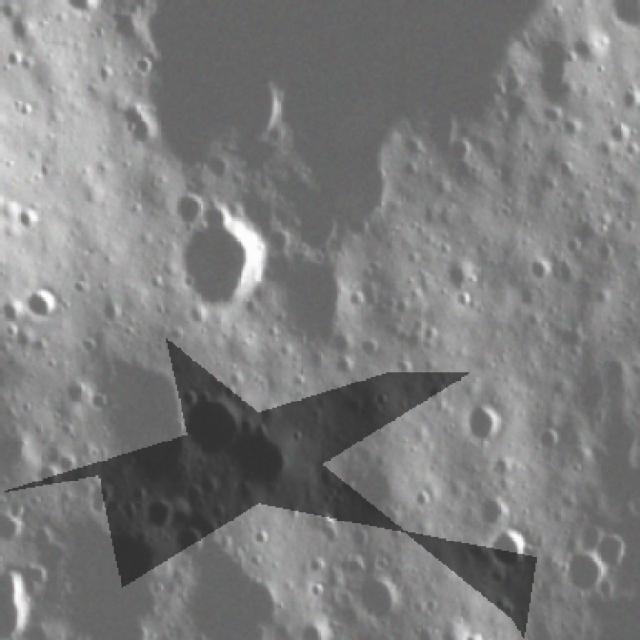crater: (165, 206, 278, 317), (277, 250, 358, 358), (228, 416, 303, 498), (175, 384, 248, 456), (480, 523, 545, 577), (349, 569, 405, 629), (560, 541, 608, 601), (21, 274, 67, 329), (459, 484, 516, 527), (460, 401, 508, 448), (169, 522, 216, 569), (592, 527, 634, 575), (520, 251, 562, 295), (139, 494, 179, 534)
